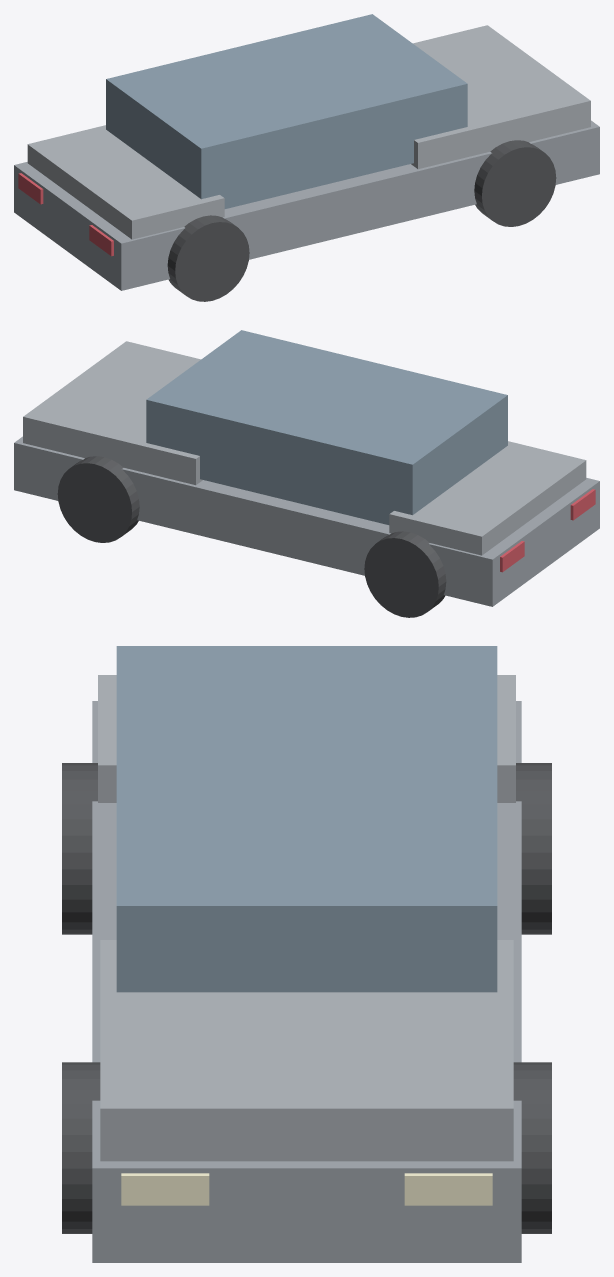
The model's file is VEH_Scandinavian_Sedan_Blockout.glb.
The picture shows the model from 3 angles, top to bottom: view 1: azimuth 30°, elevation 25°; view 2: azimuth 150°, elevation 25°; view 3: azimuth 270°, elevation 25°; orthographic projection. The views are drawn at different scales.
Parts seen in each view (by area): view 1: cabin, chassis, bonnet, boot, wheel_1.5_-0.96, wheel_-1.55_-0.96, taillight_0.61, taillight_-0.61; view 2: cabin, chassis, bonnet, boot, wheel_1.5_0.96, wheel_-1.55_0.96, taillight_-0.61, taillight_0.61; view 3: cabin, bonnet, chassis, wheel_1.5_0.96, wheel_1.5_-0.96, wheel_-1.55_0.96, wheel_-1.55_-0.96, boot, headlight_0.61, headlight_-0.61.
Part boxes in pixels (bbox=[...]): cabin: bbox=[106, 14, 467, 208]; chassis: bbox=[14, 120, 599, 290]; bonnet: bbox=[411, 25, 590, 169]; boot: bbox=[27, 125, 224, 239]; wheel_1.5_-0.96: bbox=[474, 140, 556, 226]; wheel_-1.55_-0.96: bbox=[167, 215, 249, 301]; taillight_0.61: bbox=[18, 173, 43, 204]; taillight_-0.61: bbox=[89, 225, 113, 256]; cabin: bbox=[146, 330, 507, 524]; chassis: bbox=[14, 436, 599, 606]; bonnet: bbox=[23, 341, 202, 485]; boot: bbox=[389, 441, 586, 555]; wheel_1.5_0.96: bbox=[57, 456, 139, 542]; wheel_-1.55_0.96: bbox=[364, 531, 446, 617]; taillight_-0.61: bbox=[570, 489, 595, 520]; taillight_0.61: bbox=[500, 541, 524, 572]; cabin: bbox=[116, 646, 497, 992]; bonnet: bbox=[100, 940, 513, 1161]; chassis: bbox=[92, 701, 521, 1262]; wheel_1.5_0.96: bbox=[513, 1062, 551, 1233]; wheel_1.5_-0.96: bbox=[62, 1062, 100, 1233]; wheel_-1.55_0.96: bbox=[516, 763, 551, 934]; wheel_-1.55_-0.96: bbox=[62, 763, 97, 934]; boot: bbox=[98, 675, 515, 802]; headlight_0.61: bbox=[404, 1173, 492, 1205]; headlight_-0.61: bbox=[121, 1173, 209, 1205].
Size of the model in its own units: 4.82 by 1.35 by 2.11.
